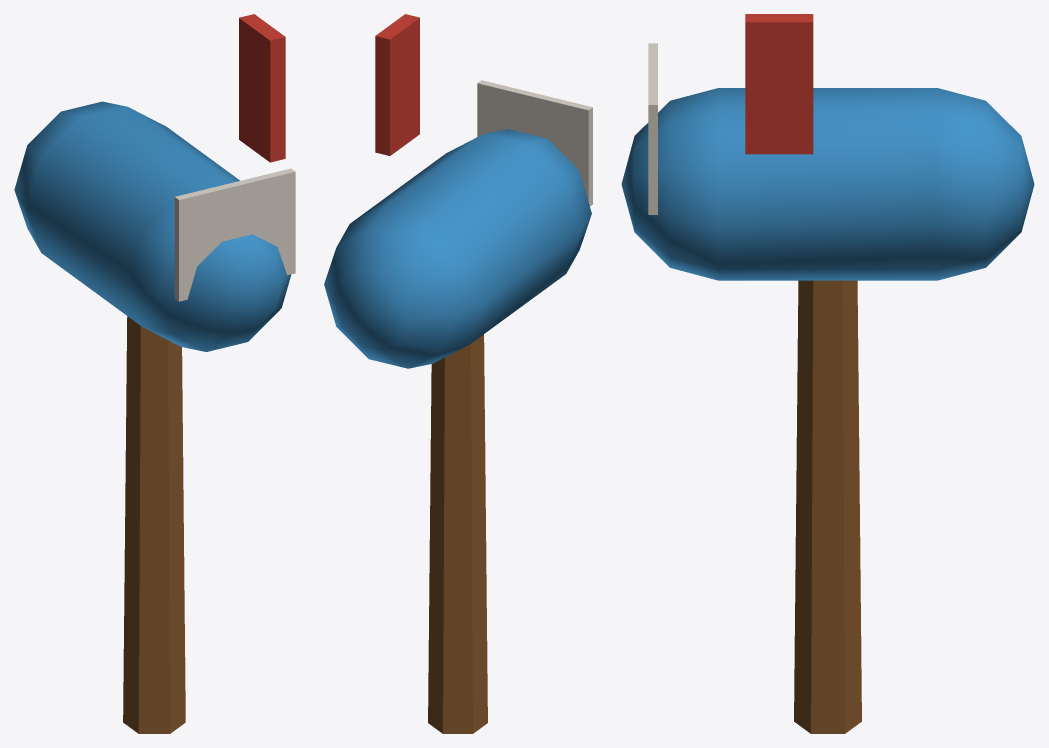
File: mailbox.glb
3 renders of one model, left to right at view 1: azimuth 30°, elevation 25°; view 2: azimuth 150°, elevation 25°; view 3: azimuth 270°, elevation 25°, orthographic. The views are drawn at different scales.
Parts seen in each view (by area): view 1: building-mailbox; view 2: building-mailbox; view 3: building-mailbox.
Part boxes in pixels (x1,y1,x2,y2): building-mailbox: (14,14,295,733); building-mailbox: (324,14,592,733); building-mailbox: (621,14,1034,733).
Size of the model in its own units: 0.44 by 1.7 by 0.8501.
